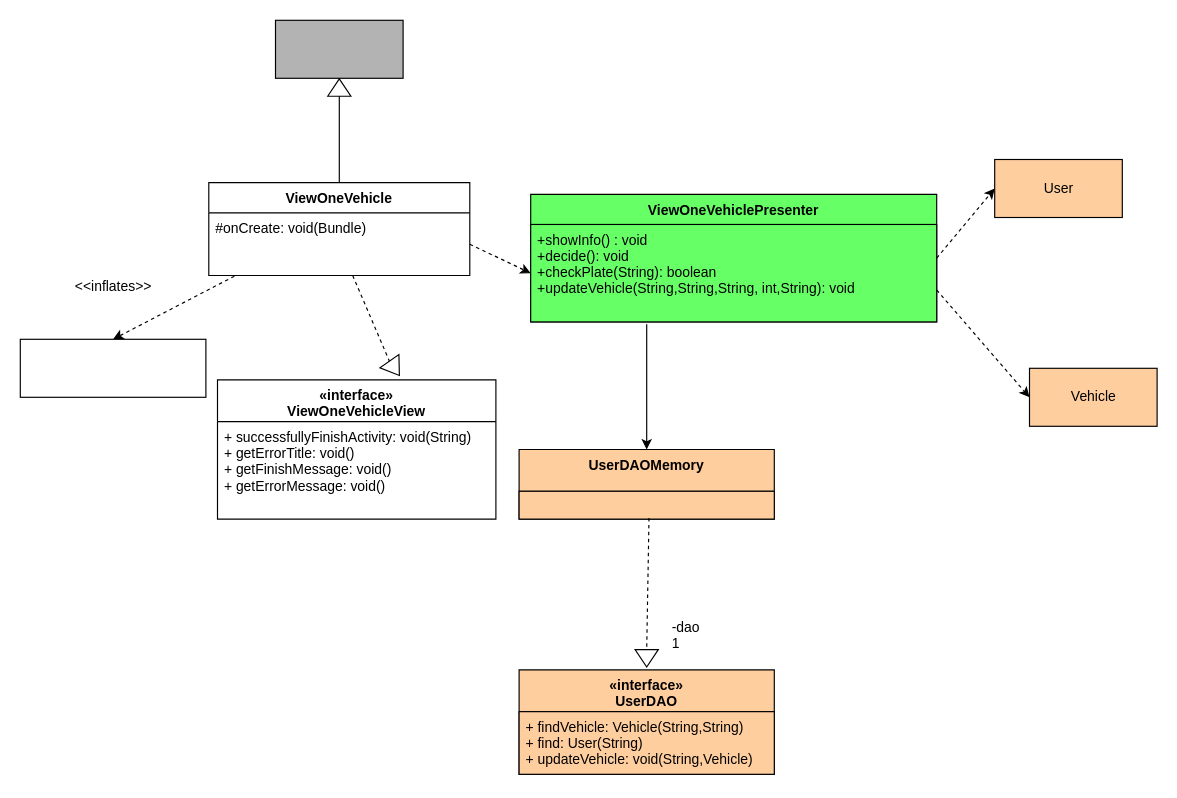
The diagram is 1177 pixels wide and 798 high, and some of its shapes have lost their labels. The shapes that lost their labels are listed below. From the top down, each one's centre as x and y in pixels, then its label:
At pixel 338 48: "AppCompatActivity".
At pixel 112 367: "«layout» activity_add_vehicle.xml".
